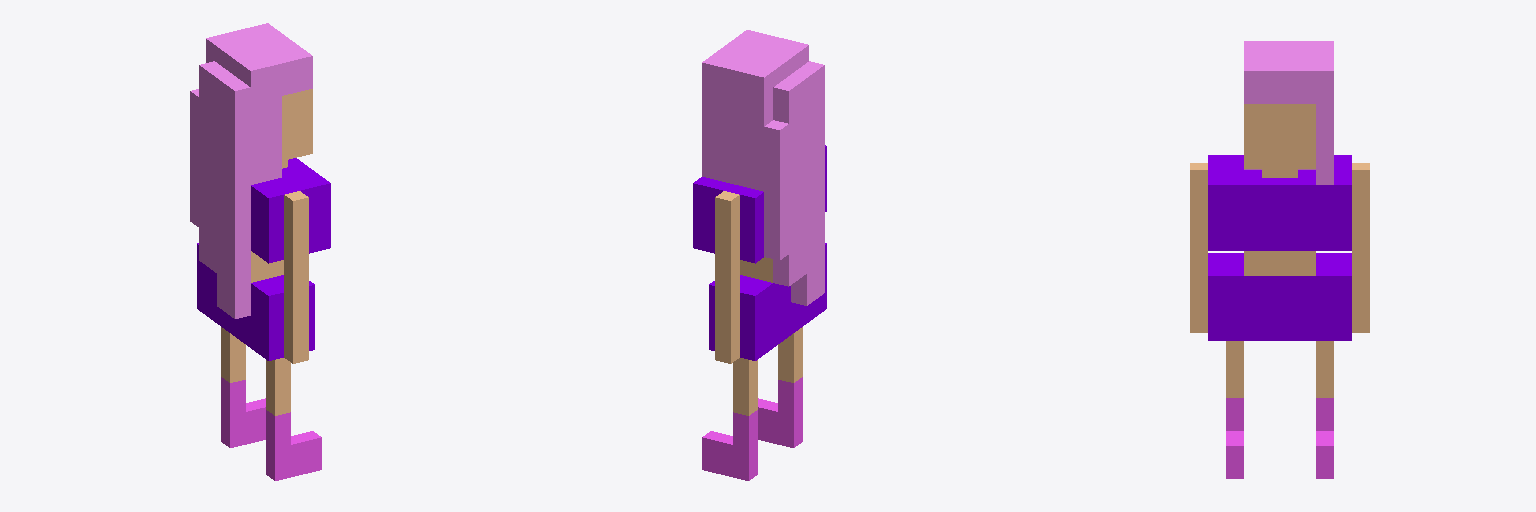
The picture shows the model from 3 angles: view 1: azimuth 30°, elevation 25°; view 2: azimuth 150°, elevation 25°; view 3: azimuth 270°, elevation 25°; orthographic projection.
Size of the model in its own units: 5 by 25 by 10.
1 materials, 1 textured.